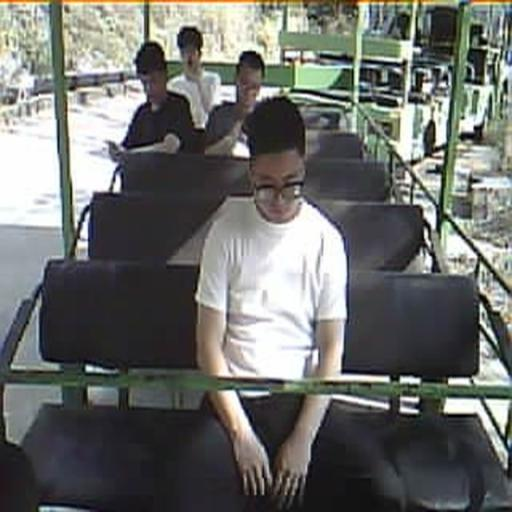persona: (194, 94, 350, 508), (112, 40, 196, 157), (204, 50, 266, 158), (167, 26, 222, 130)
